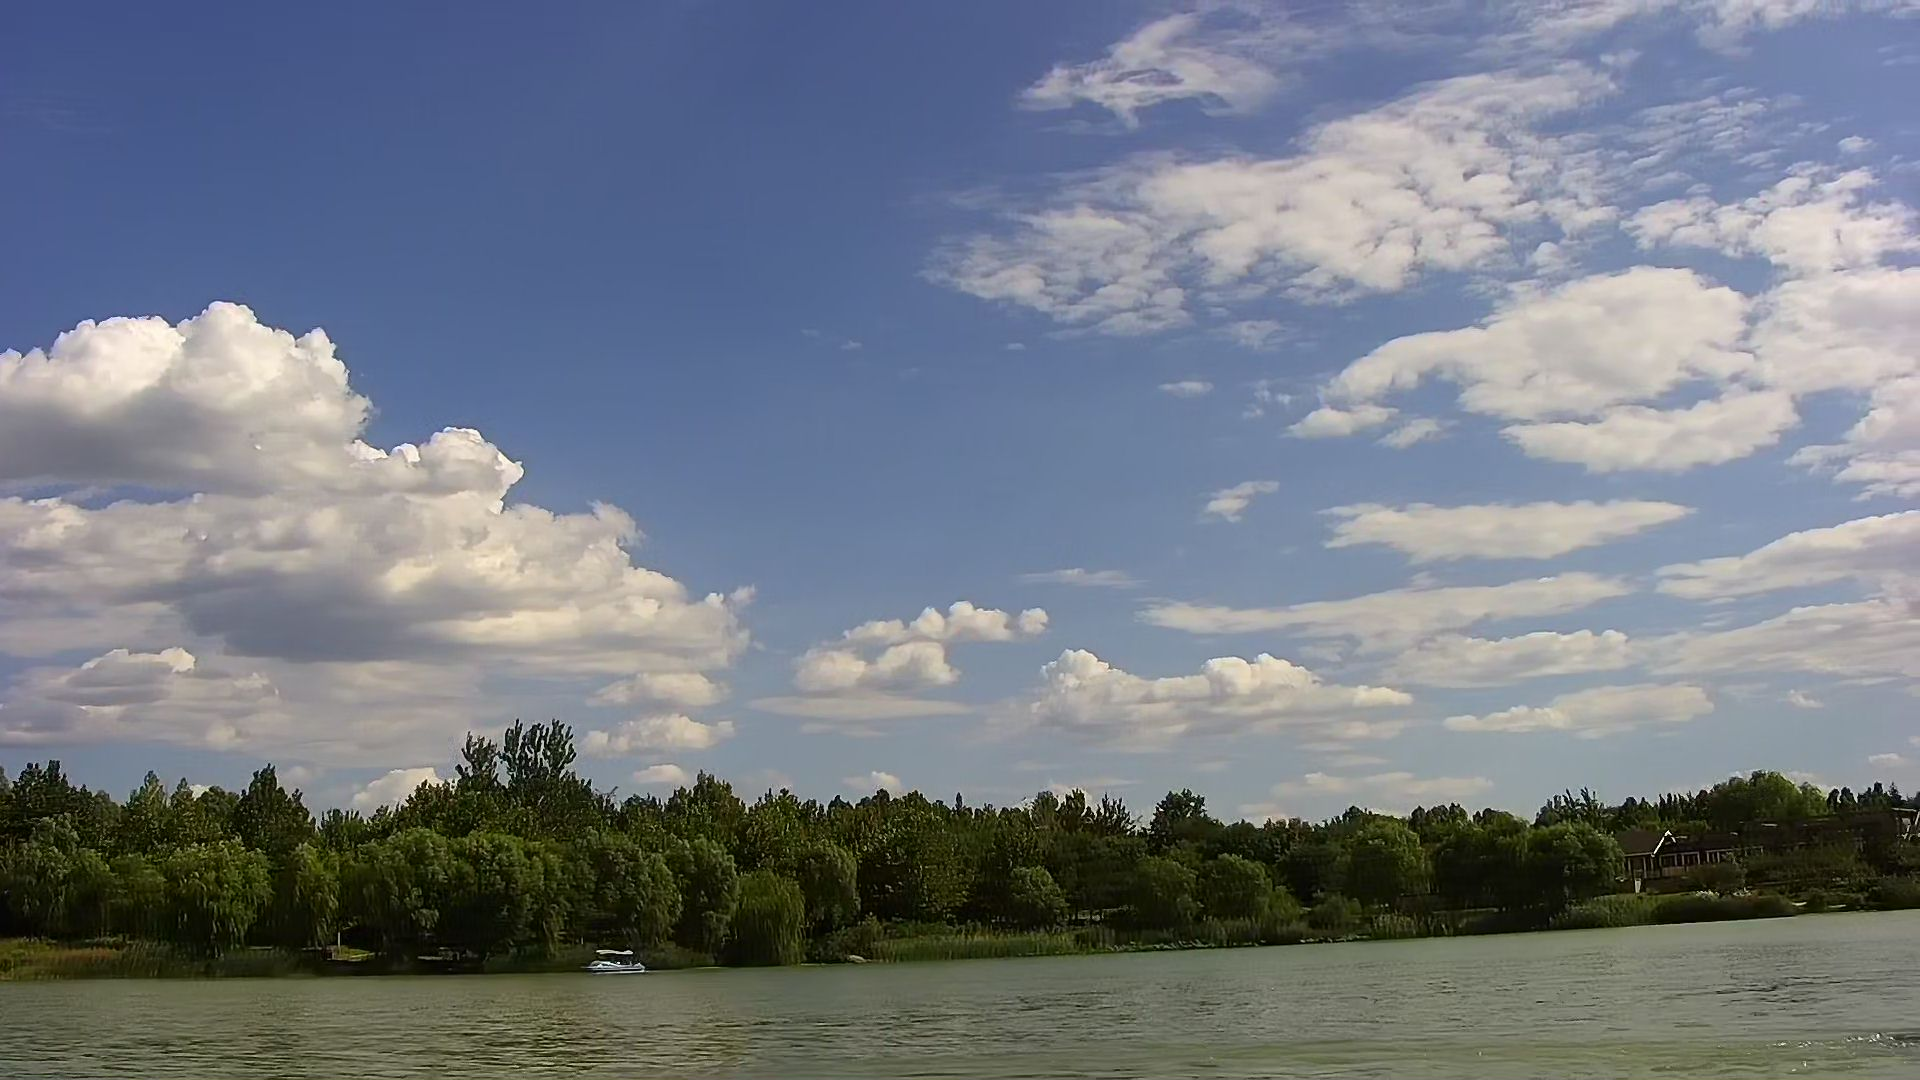boat: (582, 949, 649, 978)
